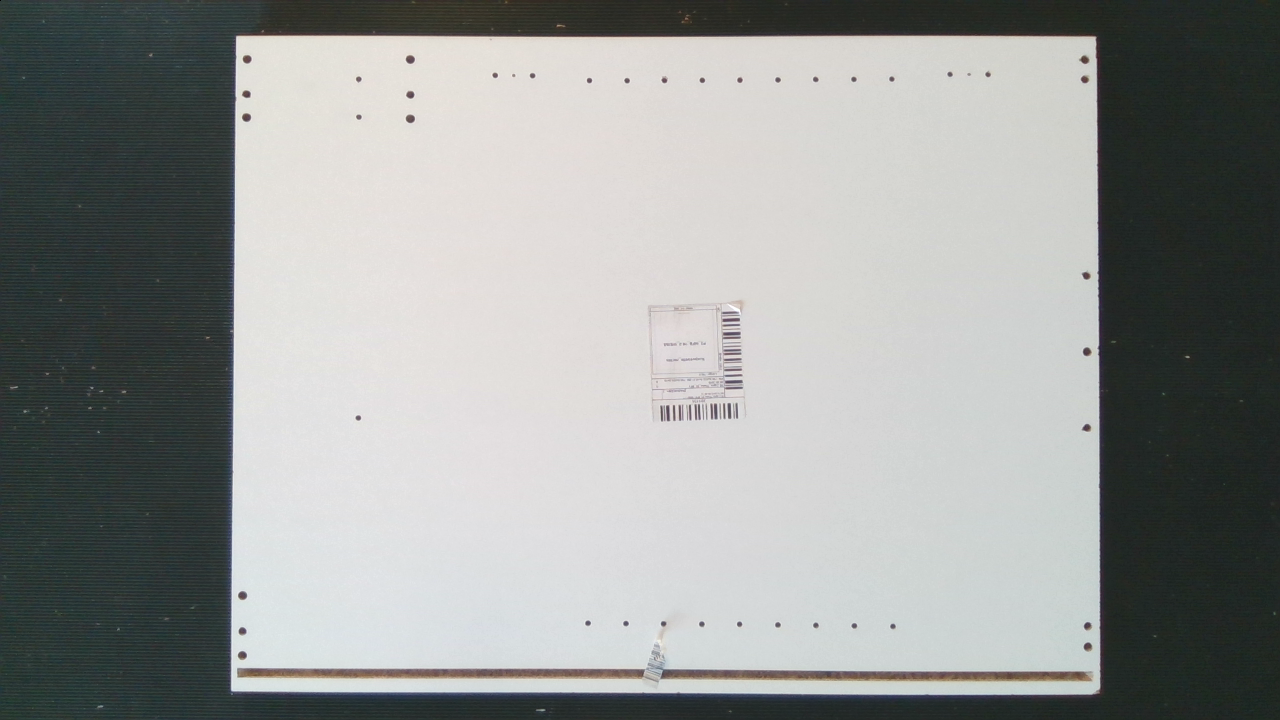barcode: (641, 297, 754, 425)
part2: (231, 34, 1112, 691)
